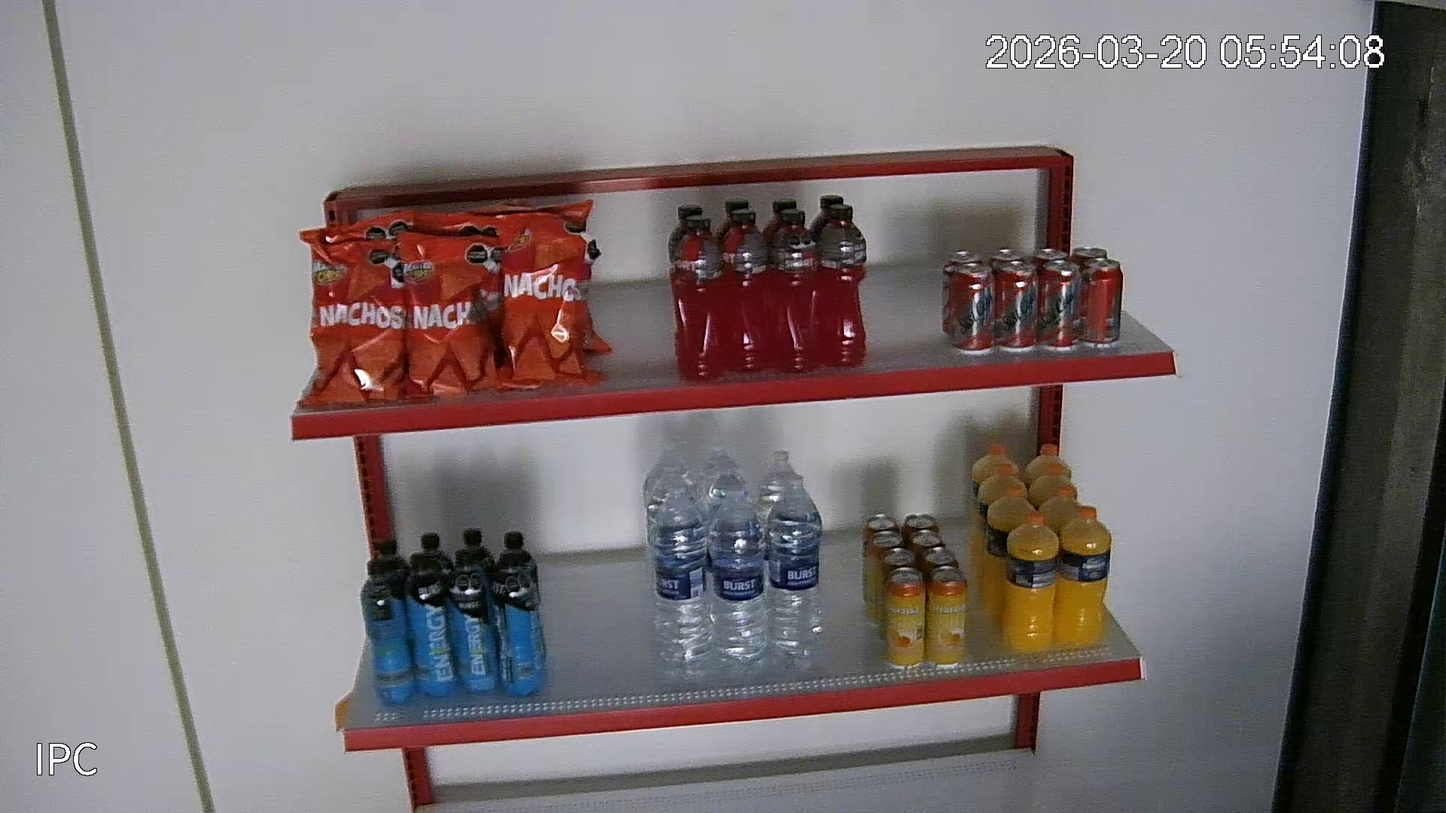agua_burst: (648, 483, 715, 667), (763, 472, 823, 660), (698, 440, 747, 500)
burst_energetica_roja: (720, 209, 771, 374), (668, 205, 703, 261), (809, 195, 845, 244)
burst_energy: (361, 558, 414, 708), (448, 549, 500, 694), (495, 531, 539, 593)
nachos_naturasol: (293, 210, 414, 410), (395, 231, 504, 399), (463, 200, 594, 229)
nebraska_mango: (885, 566, 927, 670), (861, 514, 903, 590), (919, 546, 961, 576)
sisi_cola: (995, 261, 1039, 353), (1081, 258, 1124, 348), (1032, 249, 1068, 265)
sun_paradise_naranja: (1001, 510, 1060, 653), (969, 443, 1020, 554), (1029, 463, 1078, 507)
